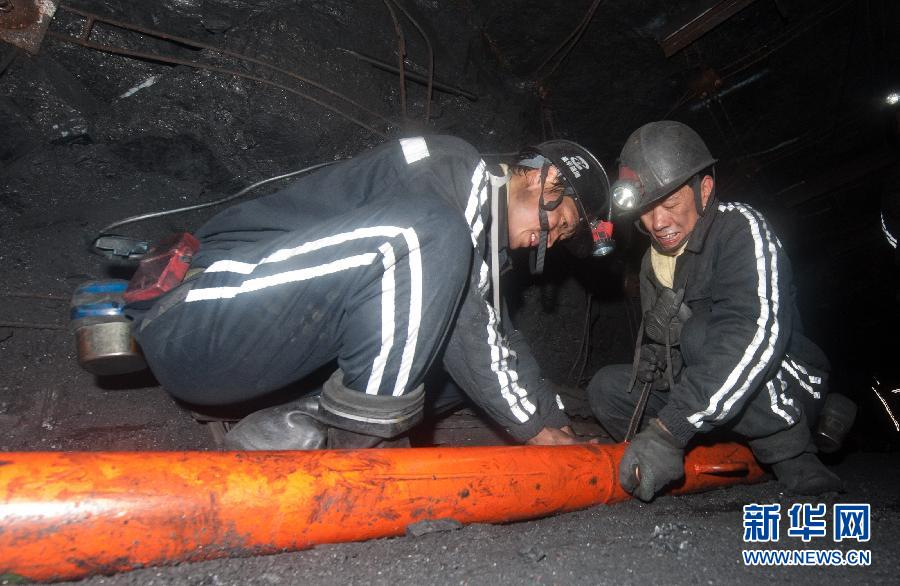helmet: (600, 115, 728, 258), (513, 129, 614, 269)
